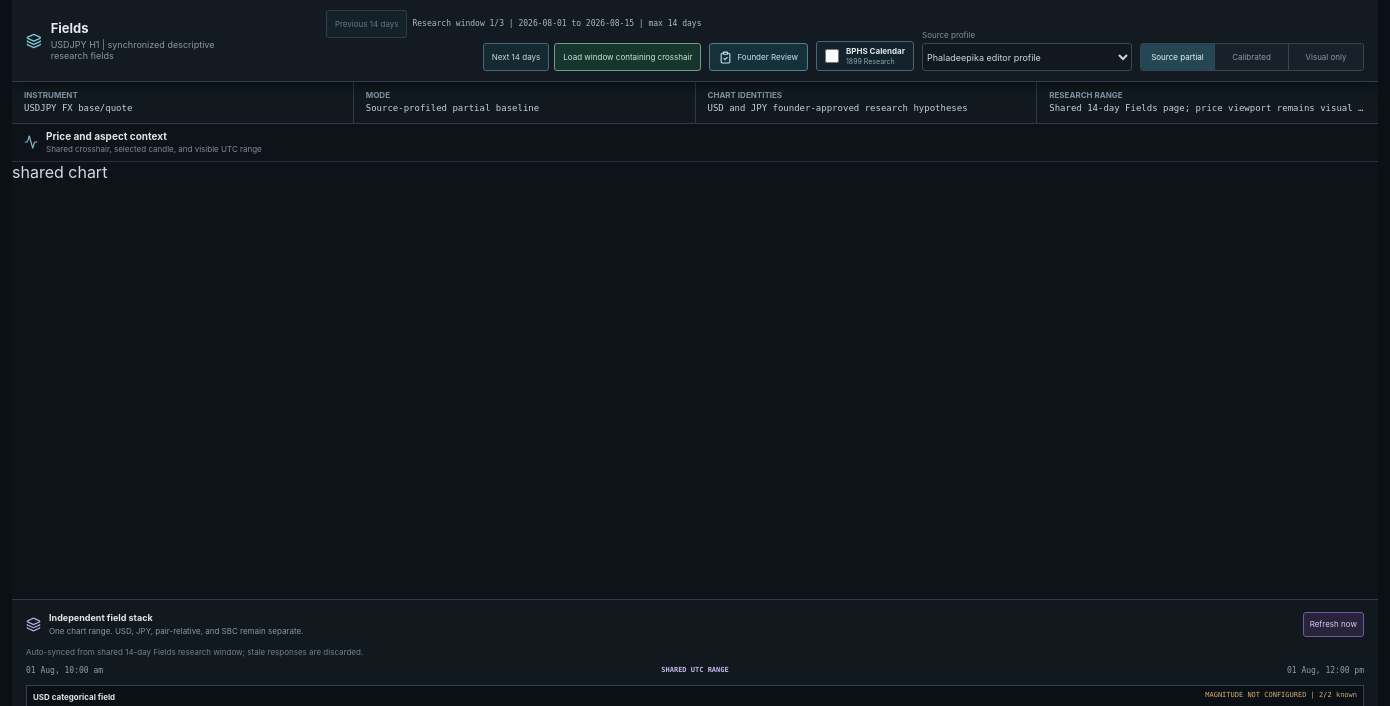
Test: FieldsWorkspace › offers an explicit crosshair page load without auto-paging on crosshair movement
Check: the text "Research window 1/3 | 2026-08-01 to 2026-08-15 | max 14 days" is shown, box [412,19,702,29]
Click the button "Load window containing crosshair" at {"x": 628, "y": 57}, box [554,43,702,71]
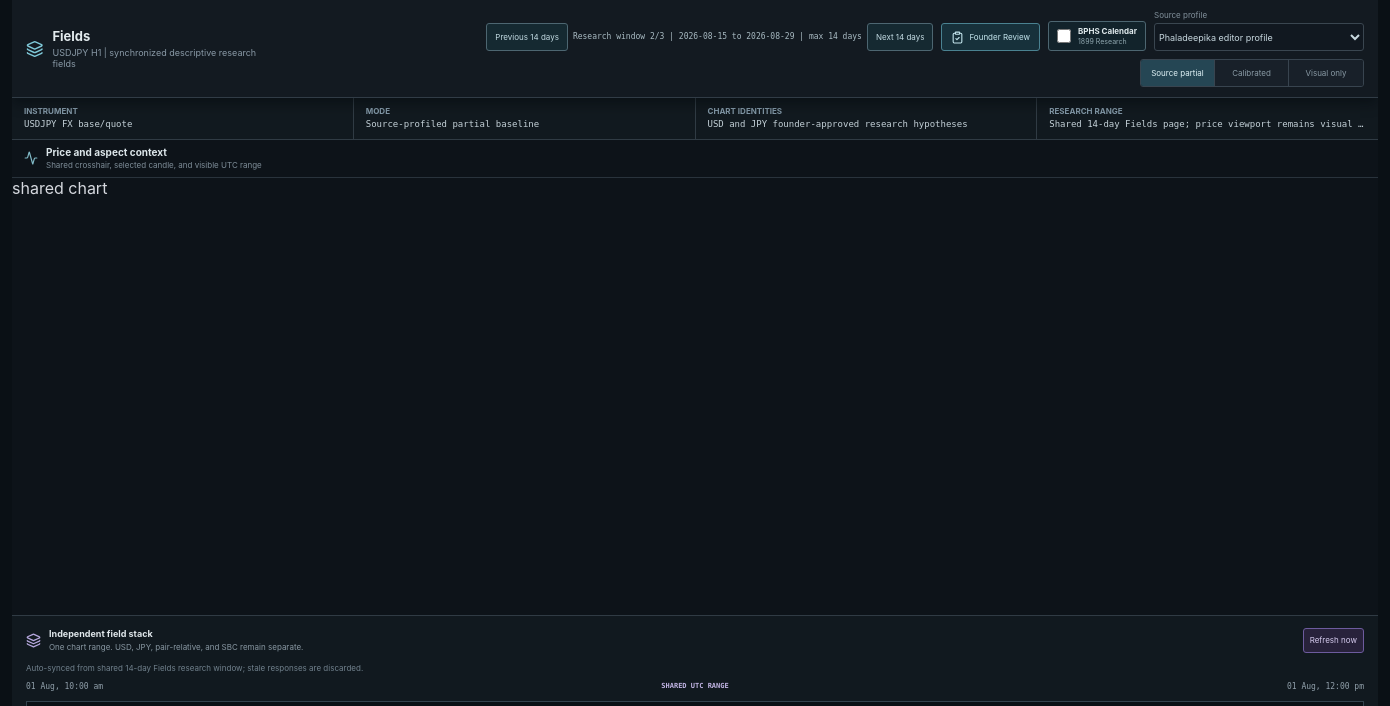
Check: the text "Research window 2/3 | 2026-08-15 to 2026-08-29 | max 14 days" is shown, box [573,32,862,42]
